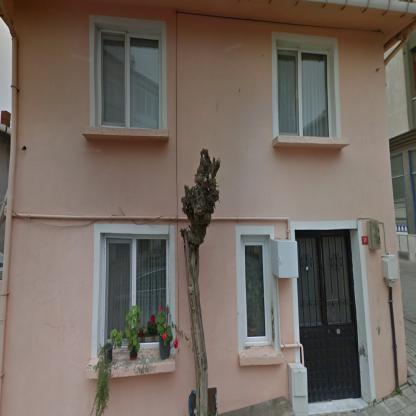door: (298, 234, 358, 400)
window: (104, 236, 167, 340), (101, 31, 160, 128), (277, 47, 331, 136), (243, 243, 268, 341)
